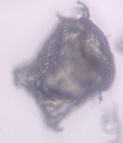microplastic: (12, 1, 117, 134)
